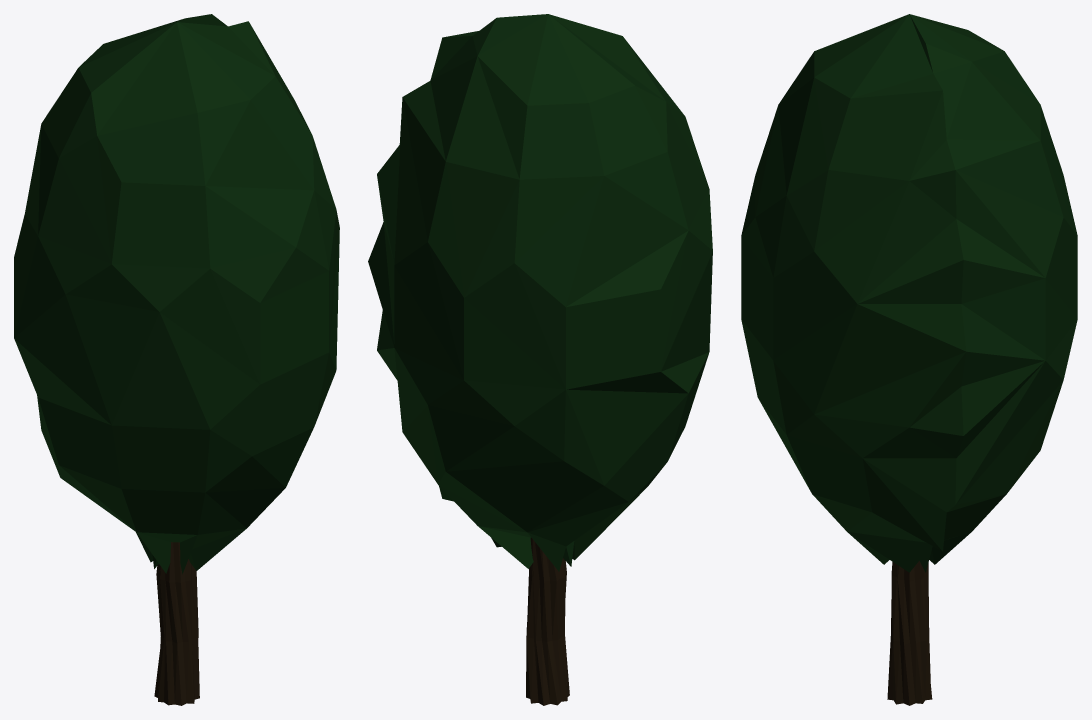
File: TallSkinnyTree_DarkGreen.fbx
The picture shows the model from 3 angles, left to right: view 1: azimuth 30°, elevation 25°; view 2: azimuth 150°, elevation 25°; view 3: azimuth 270°, elevation 25°; orthographic projection.
Visible parts, largest first — view 1: Trees:pSphere2, Trees:pCylinder2; view 2: Trees:pSphere2, Trees:pCylinder2; view 3: Trees:pSphere2, Trees:pCylinder2.
Part boxes in pixels (x1=…): Trees:pSphere2: x1=14, y1=14, x2=339, y2=574; Trees:pCylinder2: x1=154, y1=542, x2=199, y2=705; Trees:pSphere2: x1=368, y1=14, x2=712, y2=571; Trees:pCylinder2: x1=526, y1=537, x2=569, y2=705; Trees:pSphere2: x1=741, y1=14, x2=1077, y2=572; Trees:pCylinder2: x1=887, y1=561, x2=932, y2=705.
Size of the model in its own units: 0.1721 by 0.3842 by 0.1717.
